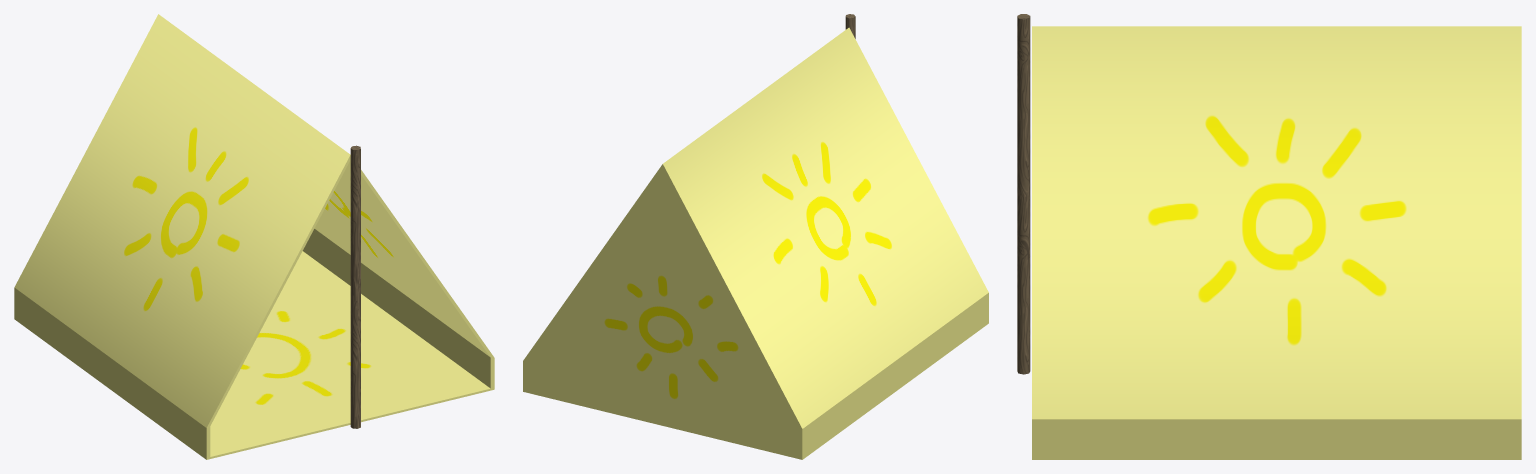
The model's file is tent.fbx.
3 views of the same model, side by side, from view 1: azimuth 30°, elevation 25°; view 2: azimuth 150°, elevation 25°; view 3: azimuth 270°, elevation 25° (orthographic). The views are drawn at different scales.
Visible parts, largest first — view 1: Box032; view 2: Box032; view 3: Box032.
Part boxes in pixels (box(x1,y1,x2,y2)): Box032: box(14, 14, 494, 459); Box032: box(523, 14, 988, 459); Box032: box(1017, 14, 1521, 459).
Size of the model in its own units: 213 by 197 by 254.
